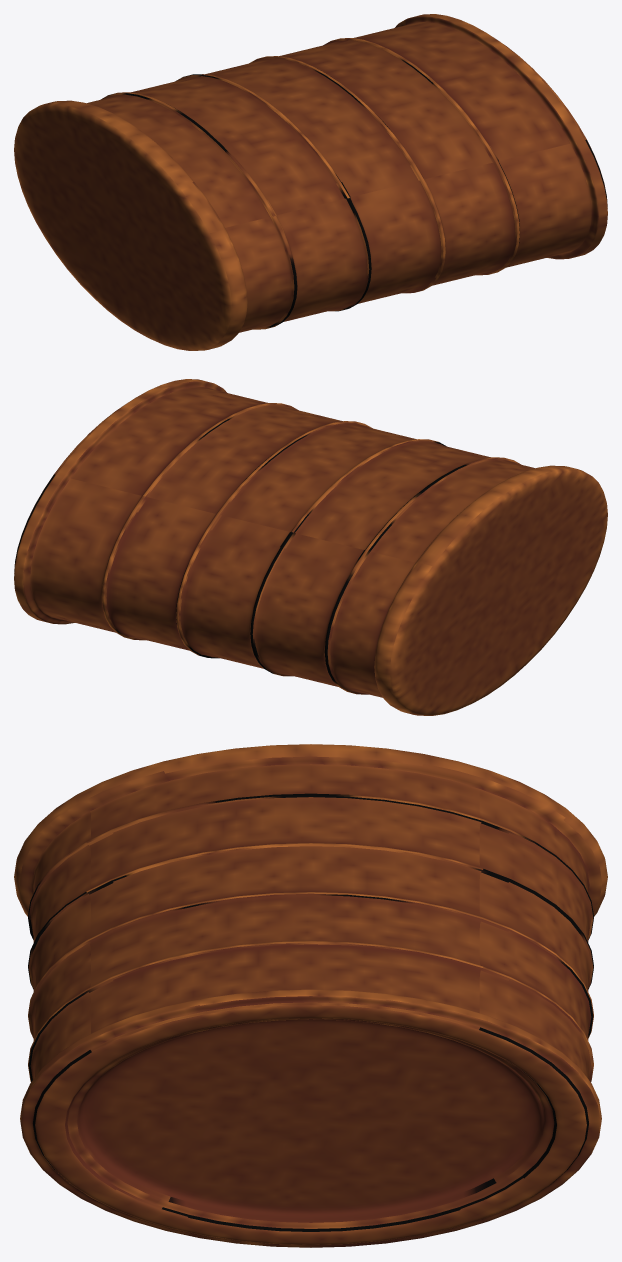
3 renders of one model, top to bottom at view 1: azimuth 30°, elevation 25°; view 2: azimuth 150°, elevation 25°; view 3: azimuth 270°, elevation 25°, orthographic. The views are drawn at different scales.
Parts seen in each view (by area): view 1: Cylinder.027; view 2: Cylinder.027; view 3: Cylinder.027.
Part boxes in pixels (left/top/right/bottom): Cylinder.027: left=14, top=14, right=607, bottom=350; Cylinder.027: left=14, top=379, right=607, bottom=715; Cylinder.027: left=14, top=744, right=607, bottom=1247.
Size of the model in its own units: 1.31 by 0.6145 by 1.28.
Materials: 1 (1 with a texture image).
